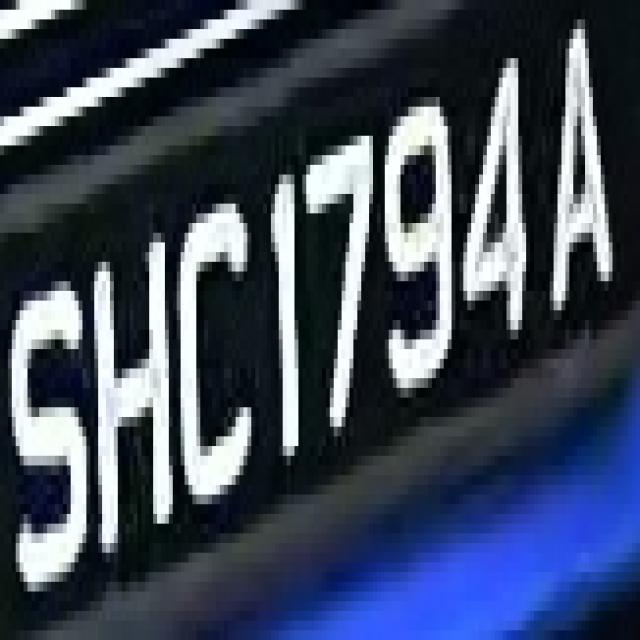1: (263, 126, 306, 495)
4: (448, 39, 546, 398)
7: (294, 116, 381, 456)
9: (373, 87, 459, 417)
A: (538, 19, 620, 368)
C: (169, 184, 263, 514)
H: (78, 213, 180, 562)
S: (8, 243, 94, 592)
